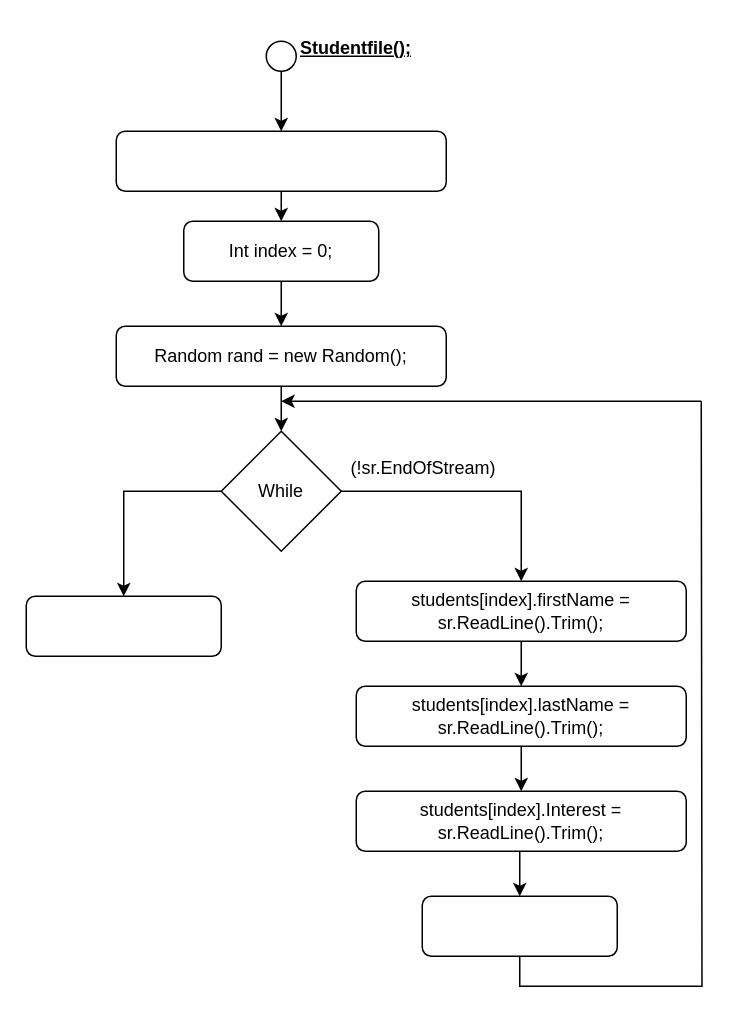
Image size: 740x1014. Some labels were removed from this diagram. Here are the shapes that lost their labels. From the top down, the centre of each, then its label:
point 280,160: StreamReader sr = new StreamReader(@"Millionaire.txt");
point 123,625: sr.Close();
point 519,925: index++;
